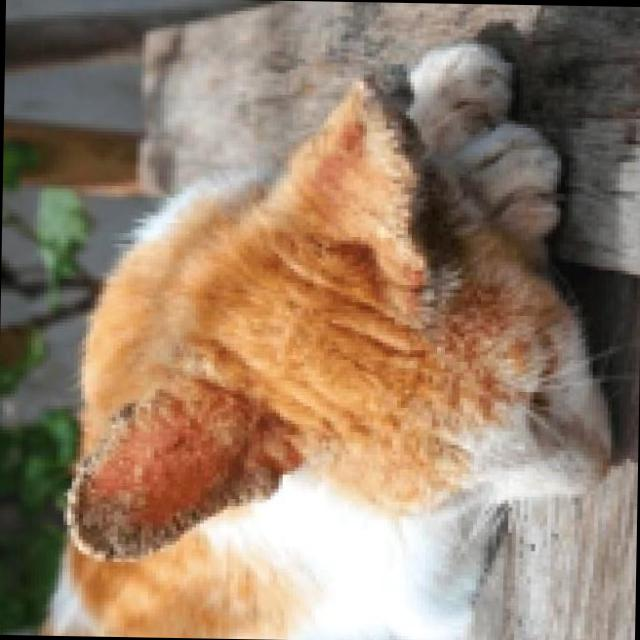Mange: (55, 402, 278, 560), (354, 50, 421, 112)
